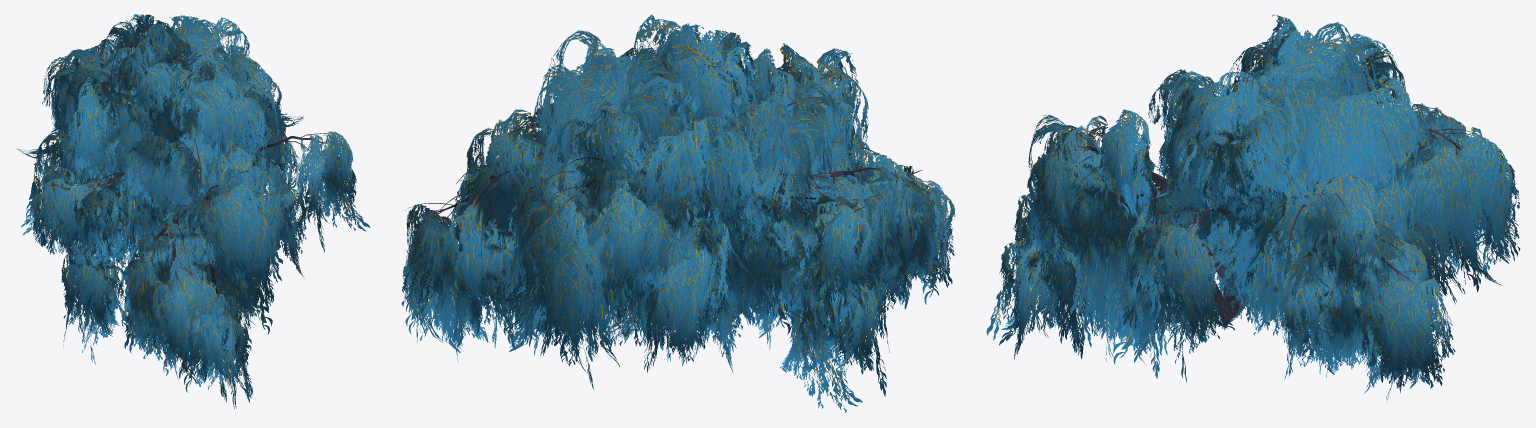
3 renders of one model, left to right at view 1: azimuth 30°, elevation 25°; view 2: azimuth 150°, elevation 25°; view 3: azimuth 270°, elevation 25°, orthographic. The views are drawn at different scales.
Parts seen in each view (by area): view 1: SM_Willow_01_Canopy_LOD0; view 2: SM_Willow_01_Canopy_LOD0; view 3: SM_Willow_01_Canopy_LOD0.
Part boxes in pixels (box(x1,y1,x2,y2)): SM_Willow_01_Canopy_LOD0: box(17, 14, 370, 409); SM_Willow_01_Canopy_LOD0: box(401, 14, 955, 412); SM_Willow_01_Canopy_LOD0: box(986, 14, 1520, 401).
Bounding box in the file's own units: 16.15 × 14.63 × 19.93.
1 material, 1 textured.
